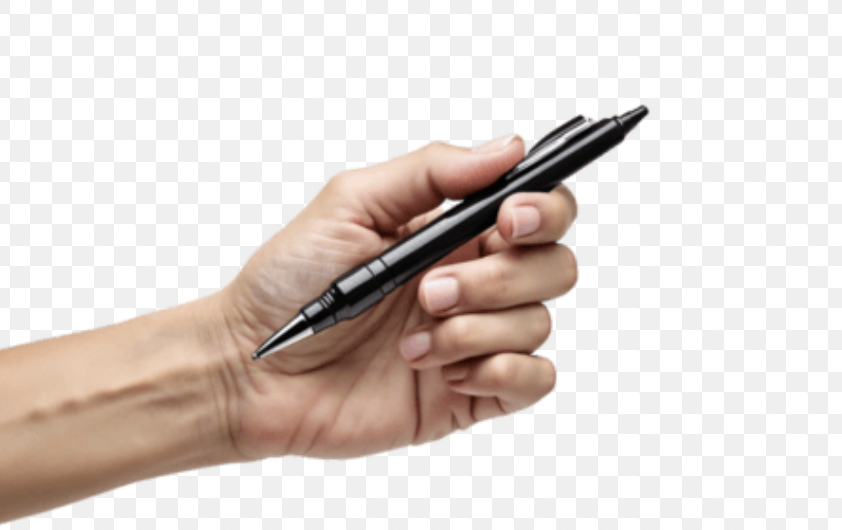pen: (250, 97, 648, 360)
